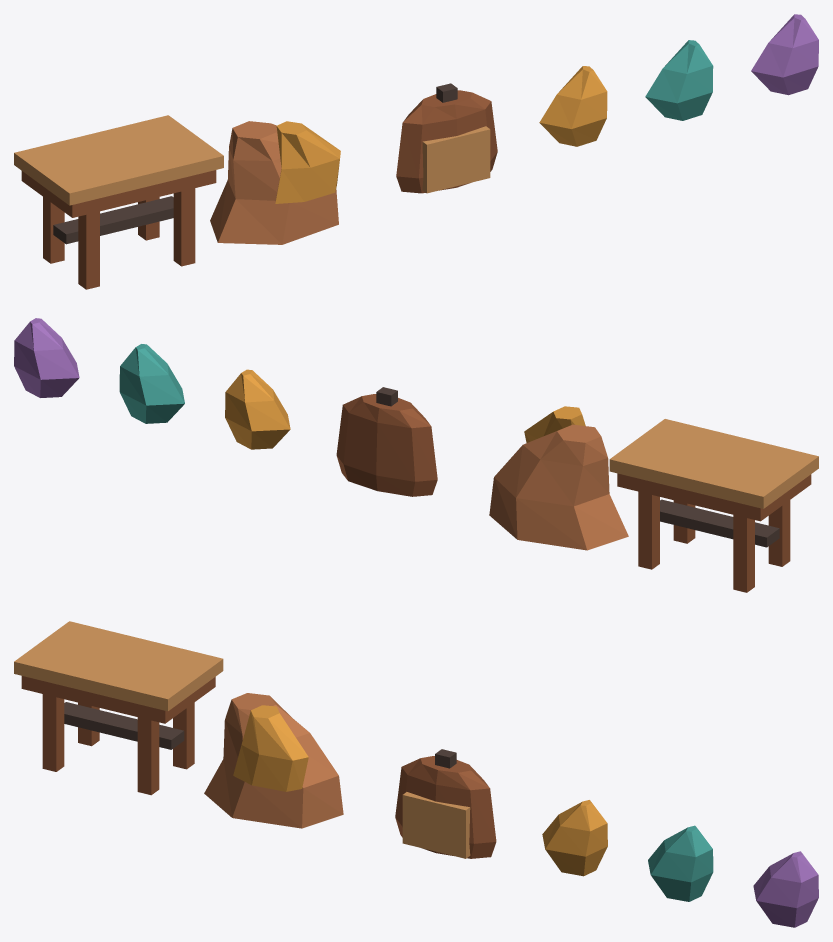
File: nat-kachina-charms-model.obj
3 renders of one model, top to bottom at view 1: azimuth 30°, elevation 25°; view 2: azimuth 150°, elevation 25°; view 3: azimuth 330°, elevation 25°, orthographic.
Visible parts, largest first — view 1: TrailProps; view 2: TrailProps; view 3: TrailProps.
Boxes of the visible parts, x1,y1,x2,y2 form: TrailProps: [14, 14, 818, 289]; TrailProps: [14, 318, 818, 592]; TrailProps: [14, 621, 818, 927].
Bounding box in the file's own units: 7.31 × 0.96 × 0.91.
